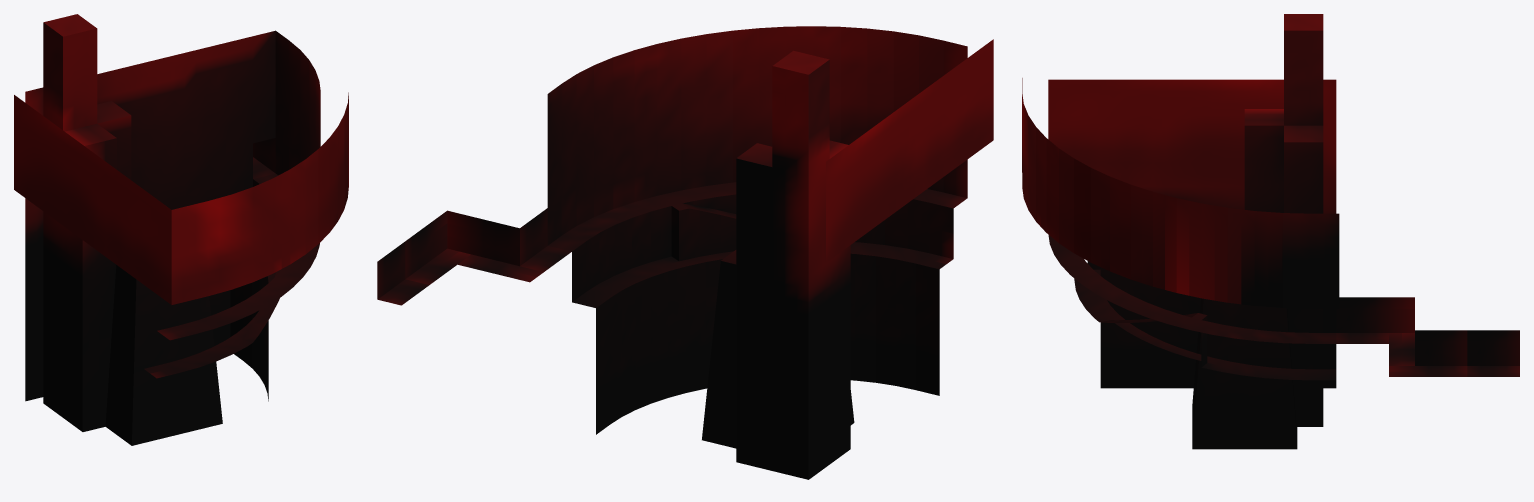
The model's file is castle_moat.glb.
The picture shows the model from 3 angles, left to right: view 1: azimuth 30°, elevation 25°; view 2: azimuth 150°, elevation 25°; view 3: azimuth 270°, elevation 25°; orthographic projection. The views are drawn at different scales.
Visible parts, largest first — view 1: Moat; view 2: Moat; view 3: Moat.
Boxes of the visible parts, x1=… form: Moat: x1=14, y1=14, x2=348, y2=445; Moat: x1=377, y1=26, x2=993, y2=479; Moat: x1=1022, y1=14, x2=1519, y2=449.
Bounding box in the file's own units: 29 × 32 × 38.
